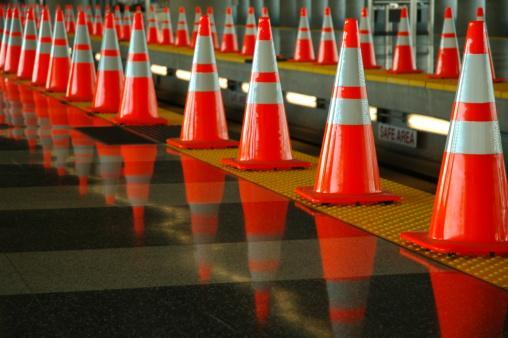Cone: (419, 23, 508, 254), (310, 19, 389, 205), (234, 18, 302, 169), (169, 16, 232, 145), (122, 14, 162, 126), (92, 12, 123, 112), (63, 12, 94, 102), (431, 7, 457, 80), (392, 8, 420, 74), (50, 10, 70, 93), (20, 8, 38, 81), (297, 7, 314, 61)
